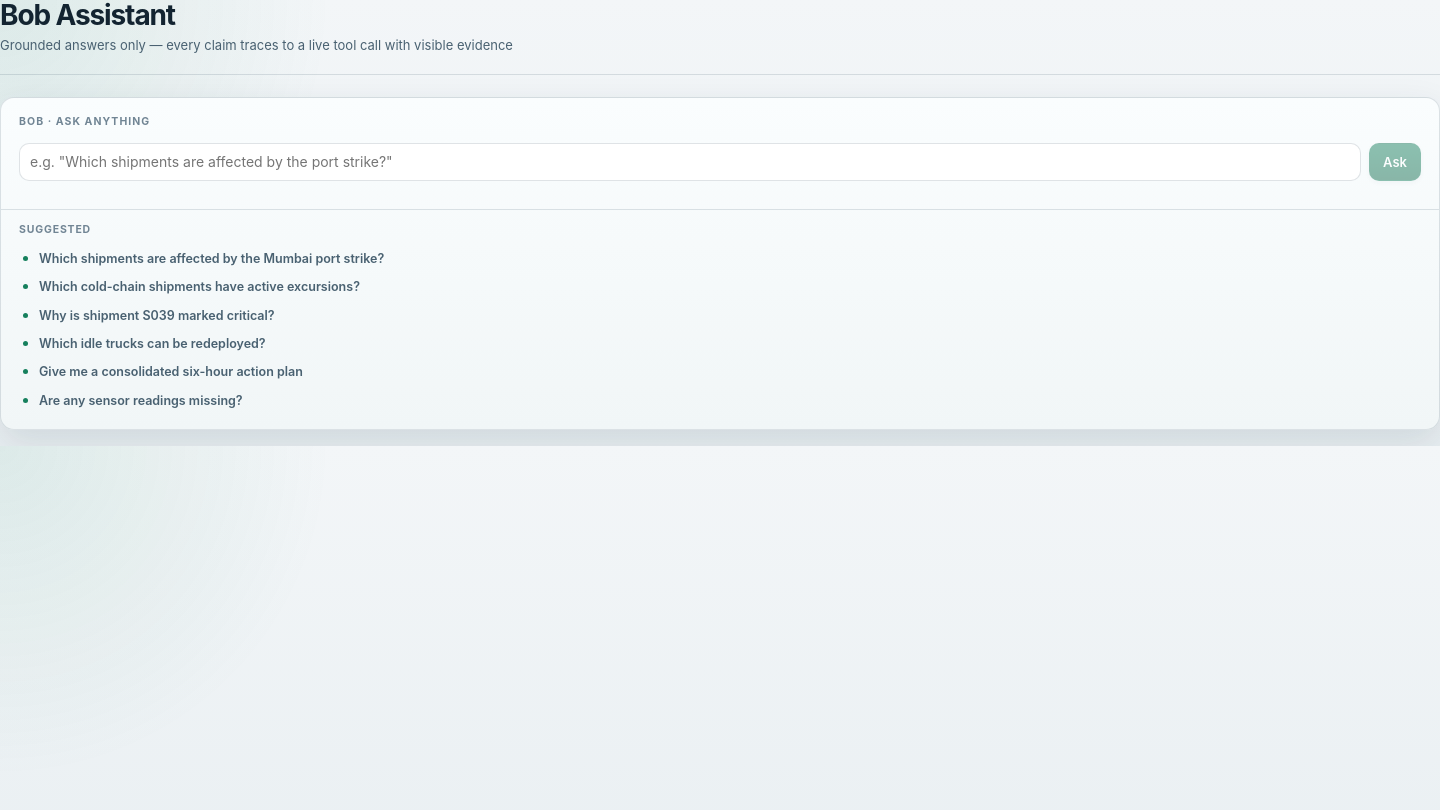
Test: S13 Bob chat › renders the grounded answer with the evidence panel
In the field with placeholder "e.g. \"Which shipments are affected by the port strike?\"": (690, 162) [19,143,1361,181], type "Which shipments are affected by the port strike?"
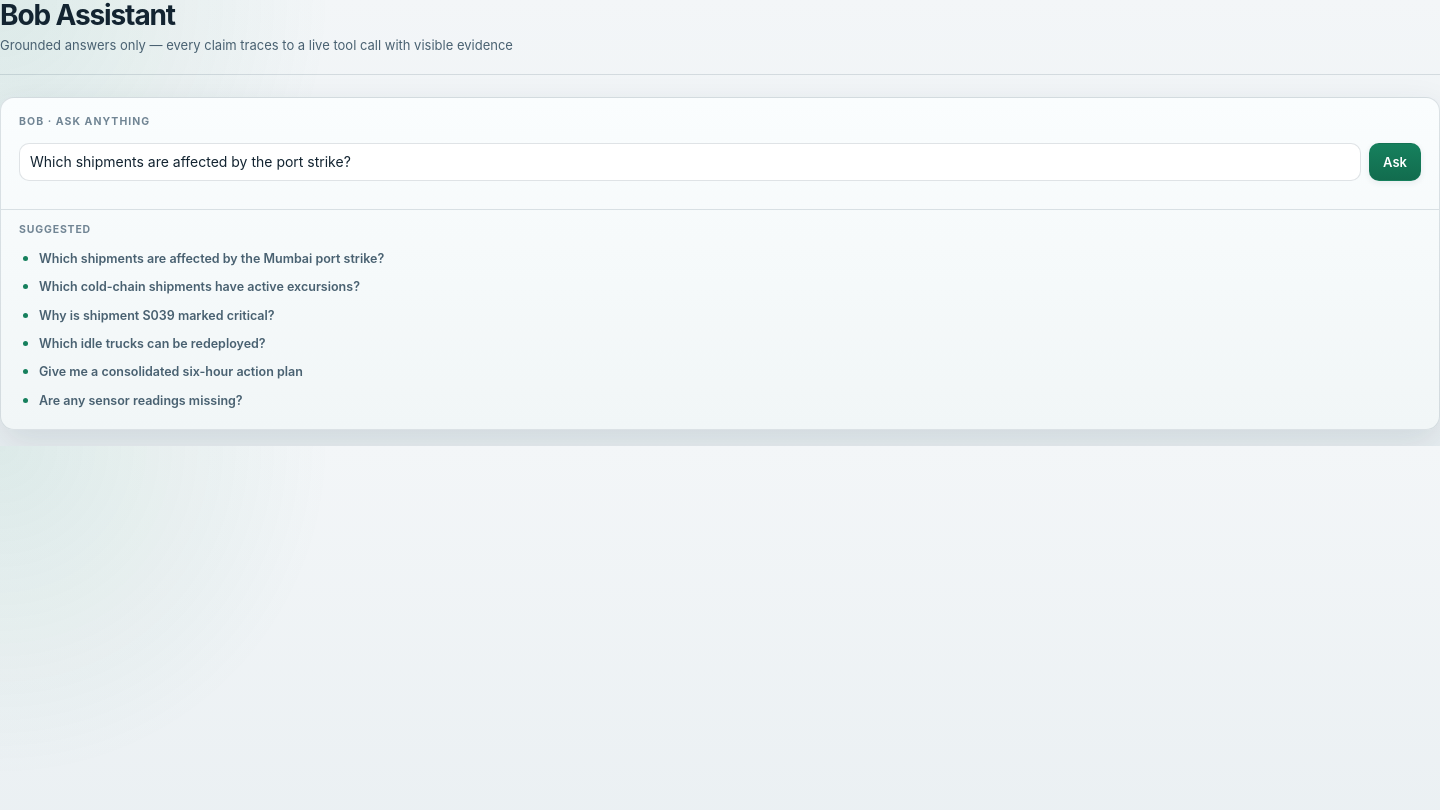
Click the button "Ask": (1395, 162) [1369,143,1421,181]
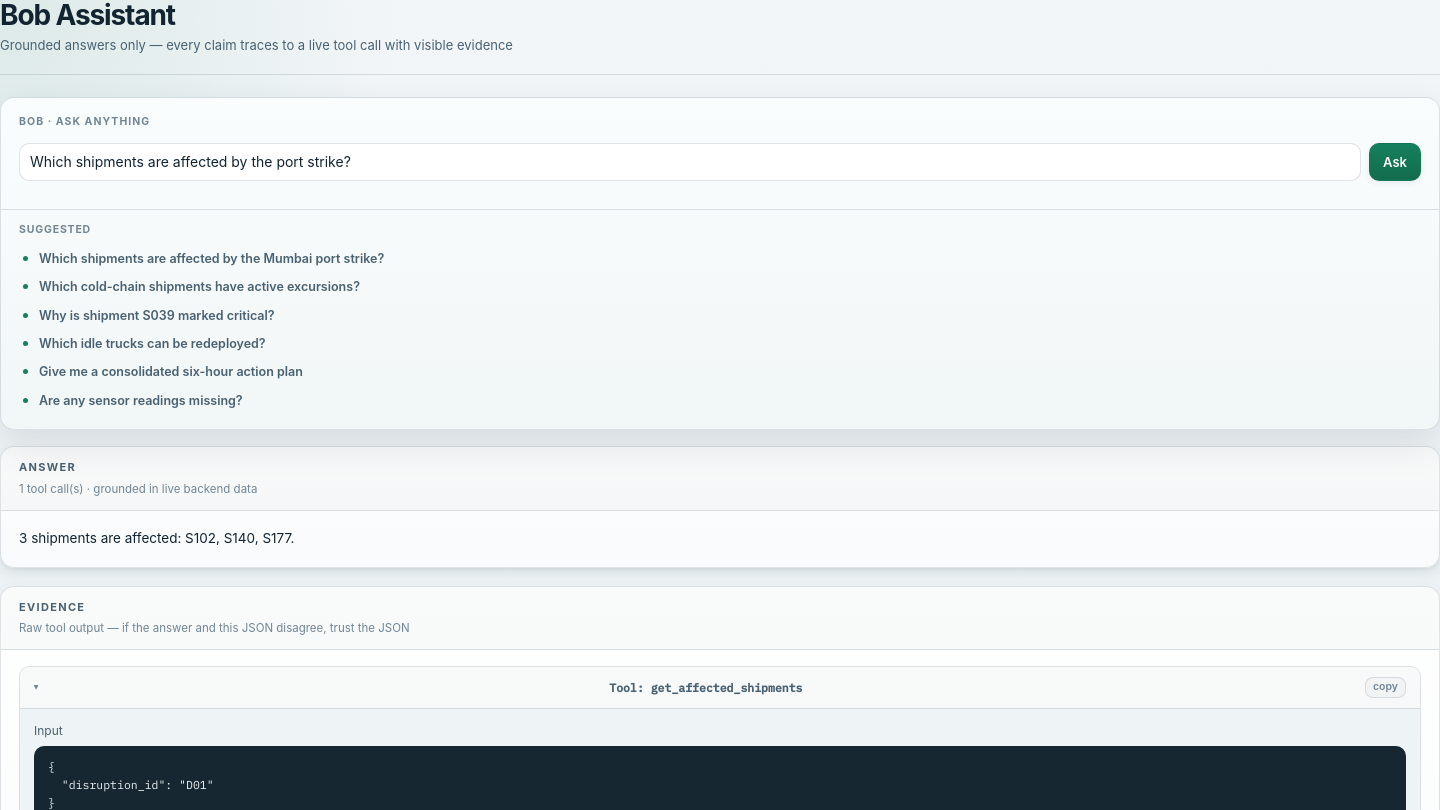
Expected: the text "3 shipments are affected: S102, S140, S177." is shown, [19,530,294,546]
Expected: the text "Tool: get_affected_shipments" is shown, [609,678,802,697]
Expected: the text "Raw tool output" is shown, [19,621,410,635]
